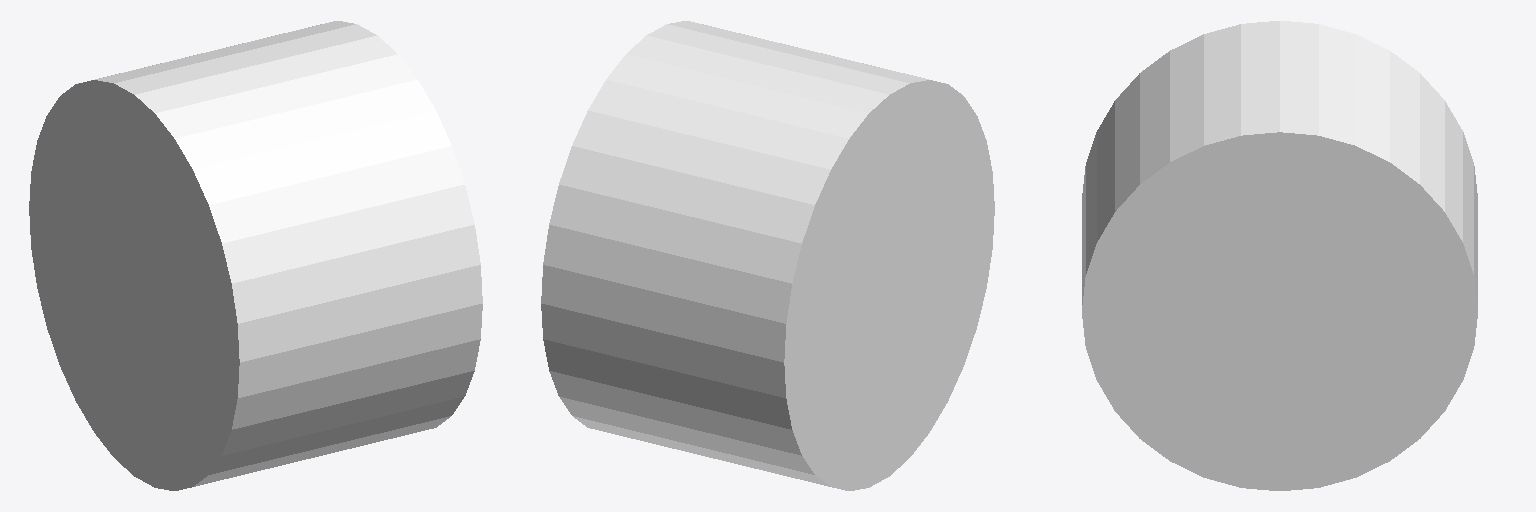
The robot description file, URDF, robot "panda_24dof_allZ":
<?xml version="1.0"?>
<robot name="panda_24dof_allZ" xmlns:xacro="http://www.ros.org/wiki/xacro">

  <!-- ===== Base Panda (7-DoF) ===== -->
  <link name="panda_link0">
    <visual><geometry><mesh filename="meshes/visual/link0.dae"/></geometry><material name="panda_white"><color rgba="1 1 1 1"/></material></visual>
    <collision><geometry><mesh filename="meshes/collision/link0.stl"/></geometry><material name="panda_white"/></collision>
  </link>

  <link name="panda_link1">
    <inertial><origin rpy="0 0 0" xyz="0 -0.04 -0.05"/><mass value="2.7"/>
      <inertia ixx="0.1" ixy="0" ixz="0" iyy="0.1" iyz="0" izz="0.1"/></inertial>
    <visual><geometry><mesh filename="meshes/visual/link1.dae"/></geometry><material name="panda_white"/></visual>
    <collision><geometry><mesh filename="meshes/collision/link1.stl"/></geometry><material name="panda_white"/></collision>
  </link>

  <joint name="panda_joint1" type="revolute">
    <origin rpy="0 0 0" xyz="0 0 0.333"/>
    <parent link="panda_link0"/><child link="panda_link1"/>
    <axis xyz="0 0 1"/>
    <limit effort="87" lower="-2.8973" upper="2.8973" velocity="2.1750"/>
  </joint>

  <link name="panda_link2">
    <inertial><origin rpy="0 0 0" xyz="0 -0.04 0.06"/><mass value="2.73"/>
      <inertia ixx="0.1" ixy="0" ixz="0" iyy="0.1" iyz="0" izz="0.1"/></inertial>
    <visual><geometry><mesh filename="meshes/visual/link2.dae"/></geometry><material name="panda_white"/></visual>
    <collision><geometry><mesh filename="meshes/collision/link2.stl"/></geometry><material name="panda_white"/></collision>
  </link>

  <joint name="panda_joint2" type="revolute">
    <origin rpy="-1.57079632679 0 0" xyz="0 0 0"/>
    <parent link="panda_link1"/><child link="panda_link2"/>
    <axis xyz="0 0 1"/>
    <limit effort="87" lower="-1.7628" upper="1.7628" velocity="2.1750"/>
  </joint>

  <link name="panda_link3">
    <inertial><origin rpy="0 0 0" xyz="0.01 0.01 -0.05"/><mass value="2.04"/>
      <inertia ixx="0.1" ixy="0" ixz="0" iyy="0.1" iyz="0" izz="0.1"/></inertial>
    <visual><geometry><mesh filename="meshes/visual/link3.dae"/></geometry><material name="panda_red"><color rgba="1 1 1 1"/></material></visual>
    <collision><geometry><mesh filename="meshes/collision/link3.stl"/></geometry></collision>
  </link>

  <joint name="panda_joint3" type="revolute">
    <origin rpy="1.57079632679 0 0" xyz="0 -0.316 0"/>
    <parent link="panda_link2"/><child link="panda_link3"/>
    <axis xyz="0 0 1"/>
    <limit effort="87" lower="-2.8973" upper="2.8973" velocity="2.1750"/>
  </joint>

  <link name="panda_link4">
    <inertial><origin rpy="0 0 0" xyz="-0.03 0.03 0.02"/><mass value="2.08"/>
      <inertia ixx="0.1" ixy="0" ixz="0" iyy="0.1" iyz="0" izz="0.1"/></inertial>
    <visual><geometry><mesh filename="meshes/visual/link4.dae"/></geometry><material name="panda_white"/></visual>
    <collision><geometry><mesh filename="meshes/collision/link4.stl"/></geometry><material name="panda_white"/></collision>
  </link>

  <joint name="panda_joint4" type="revolute">
    <origin rpy="1.57079632679 0 0" xyz="0.0825 0 0"/>
    <parent link="panda_link3"/><child link="panda_link4"/>
    <axis xyz="0 0 1"/>
    <limit effort="87" lower="-3.0718" upper="-0.0698" velocity="2.1750"/>
  </joint>

  <link name="panda_link5">
    <inertial><origin rpy="0 0 0" xyz="0 0.04 -0.12"/><mass value="3"/>
      <inertia ixx="0.1" ixy="0" ixz="0" iyy="0.1" iyz="0" izz="0.1"/></inertial>
    <visual><geometry><mesh filename="meshes/visual/link5.dae"/></geometry><material name="panda_white"/></visual>
    <collision><geometry><mesh filename="meshes/collision/link5.stl"/></geometry><material name="panda_white"/></collision>
  </link>

  <joint name="panda_joint5" type="revolute">
    <origin rpy="-1.57079632679 0 0" xyz="-0.0825 0.384 0"/>
    <parent link="panda_link4"/><child link="panda_link5"/>
    <axis xyz="0 0 1"/>
    <limit effort="12" lower="-2.8975" upper="2.8975" velocity="2.6100"/>
  </joint>

  <link name="panda_link6">
    <inertial><origin rpy="0 0 0" xyz="0.04 0 0"/><mass value="1.3"/>
      <inertia ixx="0.1" ixy="0" ixz="0" iyy="0.1" iyz="0" izz="0.1"/></inertial>
    <visual><geometry><mesh filename="meshes/visual/link6.dae"/></geometry><material name="panda_white"/></visual>
    <collision><geometry><mesh filename="meshes/collision/link6.stl"/></geometry><material name="panda_white"/></collision>
  </link>

  <joint name="panda_joint6" type="revolute">
    <origin rpy="1.57079632679 0 0" xyz="0 0 0"/>
    <parent link="panda_link5"/><child link="panda_link6"/>
    <axis xyz="0 0 1"/>
    <limit effort="12" lower="-0.0175" upper="3.7525" velocity="2.6100"/>
  </joint>

  <link name="panda_link7">
    <inertial><origin rpy="0 0 0" xyz="0 0 0.08"/><mass value="0.2"/>
      <inertia ixx="0.1" ixy="0" ixz="0" iyy="0.1" iyz="0" izz="0.1"/></inertial>
    <visual><geometry><mesh filename="meshes/visual/link7.dae"/></geometry><material name="panda_white"/></visual>
    <collision><geometry><mesh filename="meshes/collision/link7.stl"/></geometry><material name="panda_white"/></collision>
  </link>

  <joint name="panda_joint7" type="revolute">
    <origin rpy="1.57079632679 0 0" xyz="0.088 0 0"/>
    <parent link="panda_link6"/><child link="panda_link7"/>
    <axis xyz="0 0 1"/>
    <limit effort="12" lower="-2.8973" upper="2.8973" velocity="2.6100"/>
  </joint>

  <joint name="panda_joint8" type="revolute">
    <origin rpy="0 0 0" xyz="0 0 0"/>
    <parent link="panda_link7"/><child link="panda_link7_ext1"/>
    <axis xyz="0 0 1"/>
    <limit effort="20.0" lower="-3.1416" upper="3.1416" velocity="2.4"/>
    <dynamics damping="0.1" friction="0.0"/>
  </joint>

  <link name="panda_link7_ext1">
    <inertial>
      <origin rpy="0 0 0" xyz="0 0 0.020"/>
      <mass value="0.300"/>
      <inertia ixx="0.00003" ixy="0.0" ixz="0.0" iyy="0.00003" iyz="0.0" izz="0.00003"/>
    </inertial>
    <visual>
      <origin rpy="0 0 0" xyz="0 0 0.020"/>
      <geometry><cylinder length="0.040" radius="0.030"/></geometry>
      <material name="panda_white"/>
    </visual>
    <collision>
      <origin rpy="0 0 0" xyz="0 0 0.020"/>
      <geometry><cylinder length="0.040" radius="0.030"/></geometry>
      <material name="panda_white"/>
    </collision>
  </link>


  <joint name="panda_joint9" type="revolute">
    <origin rpy="0 0 0" xyz="0 0 0"/>
    <parent link="panda_link7_ext1"/><child link="panda_link7_ext2"/>
    <axis xyz="0 0 1"/>
    <limit effort="20.0" lower="-3.1416" upper="3.1416" velocity="2.4"/>
    <dynamics damping="0.1" friction="0.0"/>
  </joint>

  <link name="panda_link7_ext2">
    <inertial>
      <origin rpy="0 0 0" xyz="0 0 0.020"/>
      <mass value="0.300"/>
      <inertia ixx="0.00003" ixy="0.0" ixz="0.0" iyy="0.00003" iyz="0.0" izz="0.00003"/>
    </inertial>
    <visual>
      <origin rpy="0 0 0" xyz="0 0 0.020"/>
      <geometry><cylinder length="0.040" radius="0.030"/></geometry>
      <material name="panda_white"/>
    </visual>
    <collision>
      <origin rpy="0 0 0" xyz="0 0 0.020"/>
      <geometry><cylinder length="0.040" radius="0.030"/></geometry>
      <material name="panda_white"/>
    </collision>
  </link>


  <joint name="panda_joint10" type="revolute">
    <origin rpy="0 0 0" xyz="0 0 0"/>
    <parent link="panda_link7_ext2"/><child link="panda_link7_ext3"/>
    <axis xyz="0 0 1"/>
    <limit effort="20.0" lower="-3.1416" upper="3.1416" velocity="2.4"/>
    <dynamics damping="0.1" friction="0.0"/>
  </joint>

  <link name="panda_link7_ext3">
    <inertial>
      <origin rpy="0 0 0" xyz="0 0 0.020"/>
      <mass value="0.300"/>
      <inertia ixx="0.00003" ixy="0.0" ixz="0.0" iyy="0.00003" iyz="0.0" izz="0.00003"/>
    </inertial>
    <visual>
      <origin rpy="0 0 0" xyz="0 0 0.020"/>
      <geometry><cylinder length="0.040" radius="0.030"/></geometry>
      <material name="panda_white"/>
    </visual>
    <collision>
      <origin rpy="0 0 0" xyz="0 0 0.020"/>
      <geometry><cylinder length="0.040" radius="0.030"/></geometry>
      <material name="panda_white"/>
    </collision>
  </link>


  <joint name="panda_joint11" type="revolute">
    <origin rpy="0 0 0" xyz="0 0 0"/>
    <parent link="panda_link7_ext3"/><child link="panda_link7_ext4"/>
    <axis xyz="0 0 1"/>
    <limit effort="20.0" lower="-3.1416" upper="3.1416" velocity="2.4"/>
    <dynamics damping="0.1" friction="0.0"/>
  </joint>

  <link name="panda_link7_ext4">
    <inertial>
      <origin rpy="0 0 0" xyz="0 0 0.020"/>
      <mass value="0.300"/>
      <inertia ixx="0.00003" ixy="0.0" ixz="0.0" iyy="0.00003" iyz="0.0" izz="0.00003"/>
    </inertial>
    <visual>
      <origin rpy="0 0 0" xyz="0 0 0.020"/>
      <geometry><cylinder length="0.040" radius="0.030"/></geometry>
      <material name="panda_white"/>
    </visual>
    <collision>
      <origin rpy="0 0 0" xyz="0 0 0.020"/>
      <geometry><cylinder length="0.040" radius="0.030"/></geometry>
      <material name="panda_white"/>
    </collision>
  </link>


  <joint name="panda_joint12" type="revolute">
    <origin rpy="0 0 0" xyz="0 0 0"/>
    <parent link="panda_link7_ext4"/><child link="panda_link7_ext5"/>
    <axis xyz="0 0 1"/>
    <limit effort="20.0" lower="-3.1416" upper="3.1416" velocity="2.4"/>
    <dynamics damping="0.1" friction="0.0"/>
  </joint>

  <link name="panda_link7_ext5">
    <inertial>
      <origin rpy="0 0 0" xyz="0 0 0.020"/>
      <mass value="0.300"/>
      <inertia ixx="0.00003" ixy="0.0" ixz="0.0" iyy="0.00003" iyz="0.0" izz="0.00003"/>
    </inertial>
    <visual>
      <origin rpy="0 0 0" xyz="0 0 0.020"/>
      <geometry><cylinder length="0.040" radius="0.030"/></geometry>
      <material name="panda_white"/>
    </visual>
    <collision>
      <origin rpy="0 0 0" xyz="0 0 0.020"/>
      <geometry><cylinder length="0.040" radius="0.030"/></geometry>
      <material name="panda_white"/>
    </collision>
  </link>


  <joint name="panda_joint13" type="revolute">
    <origin rpy="0 0 0" xyz="0 0 0"/>
    <parent link="panda_link7_ext5"/><child link="panda_link7_ext6"/>
    <axis xyz="0 0 1"/>
    <limit effort="20.0" lower="-3.1416" upper="3.1416" velocity="2.4"/>
    <dynamics damping="0.1" friction="0.0"/>
  </joint>

  <link name="panda_link7_ext6">
    <inertial>
      <origin rpy="0 0 0" xyz="0 0 0.020"/>
      <mass value="0.300"/>
      <inertia ixx="0.00003" ixy="0.0" ixz="0.0" iyy="0.00003" iyz="0.0" izz="0.00003"/>
    </inertial>
    <visual>
      <origin rpy="0 0 0" xyz="0 0 0.020"/>
      <geometry><cylinder length="0.040" radius="0.030"/></geometry>
      <material name="panda_white"/>
    </visual>
    <collision>
      <origin rpy="0 0 0" xyz="0 0 0.020"/>
      <geometry><cylinder length="0.040" radius="0.030"/></geometry>
      <material name="panda_white"/>
    </collision>
  </link>


  <joint name="panda_joint14" type="revolute">
    <origin rpy="0 0 0" xyz="0 0 0"/>
    <parent link="panda_link7_ext6"/><child link="panda_link7_ext7"/>
    <axis xyz="0 0 1"/>
    <limit effort="20.0" lower="-3.1416" upper="3.1416" velocity="2.4"/>
    <dynamics damping="0.1" friction="0.0"/>
  </joint>

  <link name="panda_link7_ext7">
    <inertial>
      <origin rpy="0 0 0" xyz="0 0 0.020"/>
      <mass value="0.300"/>
      <inertia ixx="0.00003" ixy="0.0" ixz="0.0" iyy="0.00003" iyz="0.0" izz="0.00003"/>
    </inertial>
    <visual>
      <origin rpy="0 0 0" xyz="0 0 0.020"/>
      <geometry><cylinder length="0.040" radius="0.030"/></geometry>
      <material name="panda_white"/>
    </visual>
    <collision>
      <origin rpy="0 0 0" xyz="0 0 0.020"/>
      <geometry><cylinder length="0.040" radius="0.030"/></geometry>
      <material name="panda_white"/>
    </collision>
  </link>


  <joint name="panda_joint15" type="revolute">
    <origin rpy="0 0 0" xyz="0 0 0"/>
    <parent link="panda_link7_ext7"/><child link="panda_link7_ext8"/>
    <axis xyz="0 0 1"/>
    <limit effort="20.0" lower="-3.1416" upper="3.1416" velocity="2.4"/>
    <dynamics damping="0.1" friction="0.0"/>
  </joint>

  <link name="panda_link7_ext8">
    <inertial>
      <origin rpy="0 0 0" xyz="0 0 0.020"/>
      <mass value="0.300"/>
      <inertia ixx="0.00003" ixy="0.0" ixz="0.0" iyy="0.00003" iyz="0.0" izz="0.00003"/>
    </inertial>
    <visual>
      <origin rpy="0 0 0" xyz="0 0 0.020"/>
      <geometry><cylinder length="0.040" radius="0.030"/></geometry>
      <material name="panda_white"/>
    </visual>
    <collision>
      <origin rpy="0 0 0" xyz="0 0 0.020"/>
      <geometry><cylinder length="0.040" radius="0.030"/></geometry>
      <material name="panda_white"/>
    </collision>
  </link>


  <joint name="panda_joint16" type="revolute">
    <origin rpy="0 0 0" xyz="0 0 0"/>
    <parent link="panda_link7_ext8"/><child link="panda_link7_ext9"/>
    <axis xyz="0 0 1"/>
    <limit effort="20.0" lower="-3.1416" upper="3.1416" velocity="2.4"/>
    <dynamics damping="0.1" friction="0.0"/>
  </joint>

  <link name="panda_link7_ext9">
    <inertial>
      <origin rpy="0 0 0" xyz="0 0 0.020"/>
      <mass value="0.300"/>
      <inertia ixx="0.00003" ixy="0.0" ixz="0.0" iyy="0.00003" iyz="0.0" izz="0.00003"/>
    </inertial>
    <visual>
      <origin rpy="0 0 0" xyz="0 0 0.020"/>
      <geometry><cylinder length="0.040" radius="0.030"/></geometry>
      <material name="panda_white"/>
    </visual>
    <collision>
      <origin rpy="0 0 0" xyz="0 0 0.020"/>
      <geometry><cylinder length="0.040" radius="0.030"/></geometry>
      <material name="panda_white"/>
    </collision>
  </link>


  <joint name="panda_joint17" type="revolute">
    <origin rpy="0 0 0" xyz="0 0 0"/>
    <parent link="panda_link7_ext9"/><child link="panda_link7_ext10"/>
    <axis xyz="0 0 1"/>
    <limit effort="20.0" lower="-3.1416" upper="3.1416" velocity="2.4"/>
    <dynamics damping="0.1" friction="0.0"/>
  </joint>

  <link name="panda_link7_ext10">
    <inertial>
      <origin rpy="0 0 0" xyz="0 0 0.020"/>
      <mass value="0.300"/>
      <inertia ixx="0.00003" ixy="0.0" ixz="0.0" iyy="0.00003" iyz="0.0" izz="0.00003"/>
    </inertial>
    <visual>
      <origin rpy="0 0 0" xyz="0 0 0.020"/>
      <geometry><cylinder length="0.040" radius="0.030"/></geometry>
      <material name="panda_white"/>
    </visual>
    <collision>
      <origin rpy="0 0 0" xyz="0 0 0.020"/>
      <geometry><cylinder length="0.040" radius="0.030"/></geometry>
      <material name="panda_white"/>
    </collision>
  </link>


  <joint name="panda_joint18" type="revolute">
    <origin rpy="0 0 0" xyz="0 0 0"/>
    <parent link="panda_link7_ext10"/><child link="panda_link7_ext11"/>
    <axis xyz="0 0 1"/>
    <limit effort="20.0" lower="-3.1416" upper="3.1416" velocity="2.4"/>
    <dynamics damping="0.1" friction="0.0"/>
  </joint>

  <link name="panda_link7_ext11">
    <inertial>
      <origin rpy="0 0 0" xyz="0 0 0.020"/>
      <mass value="0.300"/>
      <inertia ixx="0.00003" ixy="0.0" ixz="0.0" iyy="0.00003" iyz="0.0" izz="0.00003"/>
    </inertial>
    <visual>
      <origin rpy="0 0 0" xyz="0 0 0.020"/>
      <geometry><cylinder length="0.040" radius="0.030"/></geometry>
      <material name="panda_white"/>
    </visual>
    <collision>
      <origin rpy="0 0 0" xyz="0 0 0.020"/>
      <geometry><cylinder length="0.040" radius="0.030"/></geometry>
      <material name="panda_white"/>
    </collision>
  </link>


  <joint name="panda_joint19" type="revolute">
    <origin rpy="0 0 0" xyz="0 0 0"/>
    <parent link="panda_link7_ext11"/><child link="panda_link7_ext12"/>
    <axis xyz="0 0 1"/>
    <limit effort="20.0" lower="-3.1416" upper="3.1416" velocity="2.4"/>
    <dynamics damping="0.1" friction="0.0"/>
  </joint>

  <link name="panda_link7_ext12">
    <inertial>
      <origin rpy="0 0 0" xyz="0 0 0.020"/>
      <mass value="0.300"/>
      <inertia ixx="0.00003" ixy="0.0" ixz="0.0" iyy="0.00003" iyz="0.0" izz="0.00003"/>
    </inertial>
    <visual>
      <origin rpy="0 0 0" xyz="0 0 0.020"/>
      <geometry><cylinder length="0.040" radius="0.030"/></geometry>
      <material name="panda_white"/>
    </visual>
    <collision>
      <origin rpy="0 0 0" xyz="0 0 0.020"/>
      <geometry><cylinder length="0.040" radius="0.030"/></geometry>
      <material name="panda_white"/>
    </collision>
  </link>


  <joint name="panda_joint20" type="revolute">
    <origin rpy="0 0 0" xyz="0 0 0"/>
    <parent link="panda_link7_ext12"/><child link="panda_link7_ext13"/>
    <axis xyz="0 0 1"/>
    <limit effort="20.0" lower="-3.1416" upper="3.1416" velocity="2.4"/>
    <dynamics damping="0.1" friction="0.0"/>
  </joint>

  <link name="panda_link7_ext13">
    <inertial>
      <origin rpy="0 0 0" xyz="0 0 0.020"/>
      <mass value="0.300"/>
      <inertia ixx="0.00003" ixy="0.0" ixz="0.0" iyy="0.00003" iyz="0.0" izz="0.00003"/>
    </inertial>
    <visual>
      <origin rpy="0 0 0" xyz="0 0 0.020"/>
      <geometry><cylinder length="0.040" radius="0.030"/></geometry>
      <material name="panda_white"/>
    </visual>
    <collision>
      <origin rpy="0 0 0" xyz="0 0 0.020"/>
      <geometry><cylinder length="0.040" radius="0.030"/></geometry>
      <material name="panda_white"/>
    </collision>
  </link>


  <joint name="panda_joint21" type="revolute">
    <origin rpy="0 0 0" xyz="0 0 0"/>
    <parent link="panda_link7_ext13"/><child link="panda_link7_ext14"/>
    <axis xyz="0 0 1"/>
    <limit effort="20.0" lower="-3.1416" upper="3.1416" velocity="2.4"/>
    <dynamics damping="0.1" friction="0.0"/>
  </joint>

  <link name="panda_link7_ext14">
    <inertial>
      <origin rpy="0 0 0" xyz="0 0 0.020"/>
      <mass value="0.300"/>
      <inertia ixx="0.00003" ixy="0.0" ixz="0.0" iyy="0.00003" iyz="0.0" izz="0.00003"/>
    </inertial>
    <visual>
      <origin rpy="0 0 0" xyz="0 0 0.020"/>
      <geometry><cylinder length="0.040" radius="0.030"/></geometry>
      <material name="panda_white"/>
    </visual>
    <collision>
      <origin rpy="0 0 0" xyz="0 0 0.020"/>
      <geometry><cylinder length="0.040" radius="0.030"/></geometry>
      <material name="panda_white"/>
    </collision>
  </link>


  <joint name="panda_joint22" type="revolute">
    <origin rpy="0 0 0" xyz="0 0 0"/>
    <parent link="panda_link7_ext14"/><child link="panda_link7_ext15"/>
    <axis xyz="0 0 1"/>
    <limit effort="20.0" lower="-3.1416" upper="3.1416" velocity="2.4"/>
    <dynamics damping="0.1" friction="0.0"/>
  </joint>

  <link name="panda_link7_ext15">
    <inertial>
      <origin rpy="0 0 0" xyz="0 0 0.020"/>
      <mass value="0.300"/>
      <inertia ixx="0.00003" ixy="0.0" ixz="0.0" iyy="0.00003" iyz="0.0" izz="0.00003"/>
    </inertial>
    <visual>
      <origin rpy="0 0 0" xyz="0 0 0.020"/>
      <geometry><cylinder length="0.040" radius="0.030"/></geometry>
      <material name="panda_white"/>
    </visual>
    <collision>
      <origin rpy="0 0 0" xyz="0 0 0.020"/>
      <geometry><cylinder length="0.040" radius="0.030"/></geometry>
      <material name="panda_white"/>
    </collision>
  </link>


  <joint name="panda_joint23" type="revolute">
    <origin rpy="0 0 0" xyz="0 0 0"/>
    <parent link="panda_link7_ext15"/><child link="panda_link7_ext16"/>
    <axis xyz="0 0 1"/>
    <limit effort="20.0" lower="-3.1416" upper="3.1416" velocity="2.4"/>
    <dynamics damping="0.1" friction="0.0"/>
  </joint>

  <link name="panda_link7_ext16">
    <inertial>
      <origin rpy="0 0 0" xyz="0 0 0.020"/>
      <mass value="0.300"/>
      <inertia ixx="0.00003" ixy="0.0" ixz="0.0" iyy="0.00003" iyz="0.0" izz="0.00003"/>
    </inertial>
    <visual>
      <origin rpy="0 0 0" xyz="0 0 0.020"/>
      <geometry><cylinder length="0.040" radius="0.030"/></geometry>
      <material name="panda_white"/>
    </visual>
    <collision>
      <origin rpy="0 0 0" xyz="0 0 0.020"/>
      <geometry><cylinder length="0.040" radius="0.030"/></geometry>
      <material name="panda_white"/>
    </collision>
  </link>


  <joint name="panda_joint24" type="revolute">
    <origin rpy="0 0 0" xyz="0 0 0"/>
    <parent link="panda_link7_ext16"/><child link="panda_link7_ext17"/>
    <axis xyz="0 0 1"/>
    <limit effort="20.0" lower="-3.1416" upper="3.1416" velocity="2.4"/>
    <dynamics damping="0.1" friction="0.0"/>
  </joint>

  <link name="panda_link7_ext17">
    <inertial>
      <origin rpy="0 0 0" xyz="0 0 0.020"/>
      <mass value="0.300"/>
      <inertia ixx="0.00003" ixy="0.0" ixz="0.0" iyy="0.00003" iyz="0.0" izz="0.00003"/>
    </inertial>
    <visual>
      <origin rpy="0 0 0" xyz="0 0 0.020"/>
      <geometry><cylinder length="0.040" radius="0.030"/></geometry>
      <material name="panda_white"/>
    </visual>
    <collision>
      <origin rpy="0 0 0" xyz="0 0 0.020"/>
      <geometry><cylinder length="0.040" radius="0.030"/></geometry>
      <material name="panda_white"/>
    </collision>
  </link>

  <link name="panda_link8">
    <inertial>
      <origin rpy="0 0 0" xyz="0 0 0"/>
      <mass value="0.0"/>
      <inertia ixx="0.1" ixy="0" ixz="0" iyy="0.1" iyz="0" izz="0.1"/>
    </inertial>
  </link>

  <joint name="panda_joint24_fixed" type="fixed">
    <origin rpy="0 0 0" xyz="0 0 -0.680"/>
    <parent link="panda_link7_ext17"/><child link="panda_link8"/>
  </joint>

  <joint name="panda_hand_joint" type="fixed">
    <origin rpy="0 0 -0.785398163397" xyz="0 0 0"/>
    <parent link="panda_link8"/><child link="panda_hand"/>
  </joint>

  <link name="panda_hand">
    <inertial>
      <origin rpy="0 0 0" xyz="0 0 0.04"/>
      <mass value="0.81"/>
      <inertia ixx="0.1" ixy="0" ixz="0.1" iyy="0.1" iyz="0" izz="0.1"/>
    </inertial>
    <visual><geometry><mesh filename="meshes/visual/hand.dae"/></geometry><material name="panda_white"/></visual>
    <collision><geometry><mesh filename="meshes/collision/hand.stl"/></geometry><material name="panda_white"/></collision>
  </link>

  <link name="panda_leftfinger">
    <inertial><origin rpy="0 0 0" xyz="0 0.01 0.02"/><mass value="0.1"/>
      <inertia ixx="0.1" ixy="0" ixz="0.1" iyy="0.1" iyz="0" izz="0.1"/></inertial>
    <visual><geometry><mesh filename="meshes/visual/finger.dae"/></geometry></visual>
    <collision><geometry><mesh filename="meshes/collision/finger.stl"/></geometry></collision>
  </link>

  <link name="panda_rightfinger">
    <inertial><origin rpy="0 0 0" xyz="0 -0.01 0.02"/><mass value="0.1"/>
      <inertia ixx="0.1" ixy="0" ixz="0.1" iyy="0.1" iyz="0" izz="0.1"/></inertial>
    <visual><origin rpy="0 0 3.14159265359" xyz="0 0 0"/><geometry><mesh filename="meshes/visual/finger.dae"/></geometry></visual>
    <collision><origin rpy="0 0 3.14159265359" xyz="0 0 0"/><geometry><mesh filename="meshes/collision/finger.stl"/></geometry></collision>
  </link>

  <joint name="panda_finger_joint1" type="fixed">
    <origin rpy="0 0 0" xyz="0 0.04 0.0584"/>
    <parent link="panda_hand"/><child link="panda_leftfinger"/>
  </joint>

  <joint name="panda_finger_joint2" type="fixed">
    <origin rpy="0 0 0" xyz="0 -0.04 0.0584"/>
    <parent link="panda_hand"/><child link="panda_rightfinger"/>
  </joint>

  <link name="right_gripper">
    <inertial><mass value="0.01"/><inertia ixx="0.0001" ixy="0" ixz="0" iyy="0.0001" iyz="0" izz="0.0001"/><origin rpy="0 0 0" xyz="0 0 0"/></inertial>
  </link>
  <joint name="right_gripper" type="fixed">
    <origin rpy="0 0 2.35619449019" xyz="0 0 0.1"/>
    <parent link="panda_link8"/><child link="right_gripper"/>
  </joint>

  <link name="panda_grasptarget">
    <inertial><origin rpy="0 0 0" xyz="0 0 0"/><mass value="0.0"/>
      <inertia ixx="0.1" ixy="0" ixz="0.1" iyy="0.1" iyz="0" izz="0.1"/></inertial>
  </link>
  <joint name="panda_grasptarget_hand" type="fixed">
    <origin rpy="0 0 0" xyz="0 0 0.105"/>
    <parent link="panda_hand"/><child link="panda_grasptarget"/>
  </joint>

</robot>

--- What the picture shows (computed from the rendered views, not written in the file) ---
3 views of the same robot in one strip: view 1: azimuth 30°, elevation 25°; view 2: azimuth 150°, elevation 25°; view 3: azimuth 270°, elevation 25° (orthographic).
Robot: panda_24dof_allZ — 31 links, 30 joints (24 revolute, 6 fixed); root link panda_link0; default pose: all joints at 0 but 1 set to mid-range because 0 is outside their limits (panda_joint4 = -1.57).
Links seen in each view (by area): view 1: panda_link7_ext1; view 2: panda_link7_ext1; view 3: panda_link7_ext1.
Link boxes in pixels (x1,y1,x2,y2): panda_link7_ext1: [29, 21, 482, 490]; panda_link7_ext1: [541, 21, 994, 490]; panda_link7_ext1: [1082, 21, 1477, 490].
Size in the robot's own frame: 0.04 by 0.06 by 0.06 metres.
0 mesh visuals loaded from 10 distinct referenced files (none loaded); not drawn: 11 (reference not matched to a file when rendering).